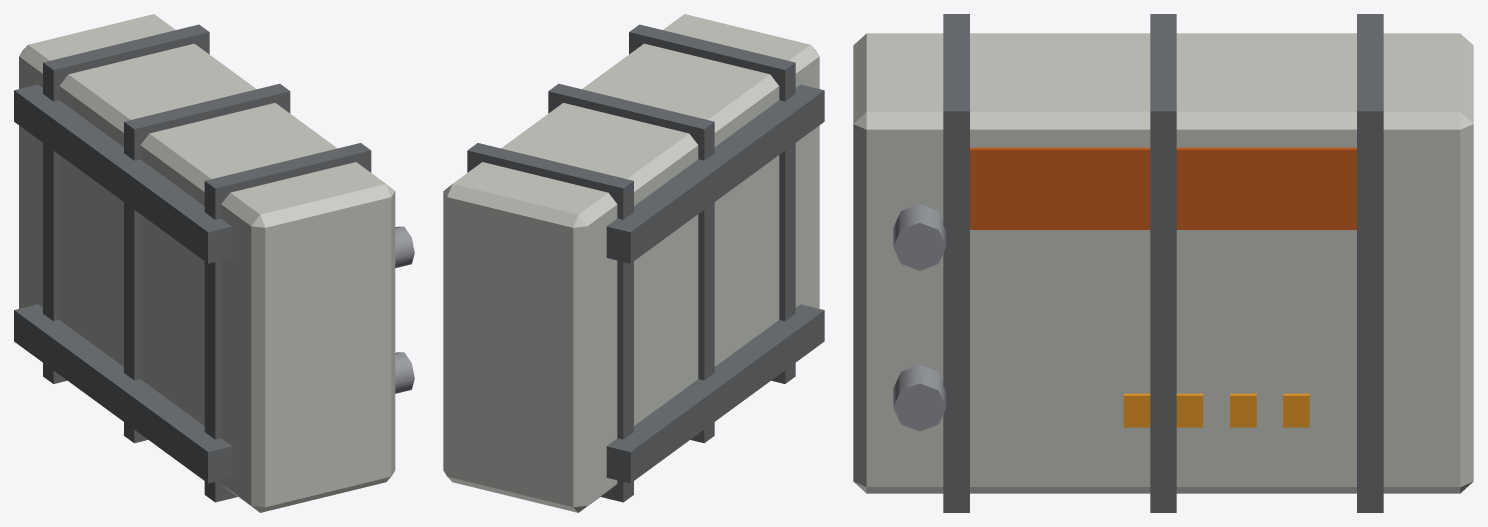
Rendered from u73l_field_ctl.obj.
3 renders of one model, left to right at view 1: azimuth 30°, elevation 25°; view 2: azimuth 150°, elevation 25°; view 3: azimuth 270°, elevation 25°, orthographic. The views are drawn at different scales.
Parts seen in each view (by area): view 1: u73l_field_ctl; view 2: u73l_field_ctl; view 3: u73l_field_ctl.
Boxes of the visible parts, x1=… form: u73l_field_ctl: x1=14, y1=14, x2=414, y2=512; u73l_field_ctl: x1=443, y1=14, x2=824, y2=512; u73l_field_ctl: x1=853, y1=14, x2=1473, y2=512.
Size of the model in its own units: 0.66 by 1 by 1.4.
